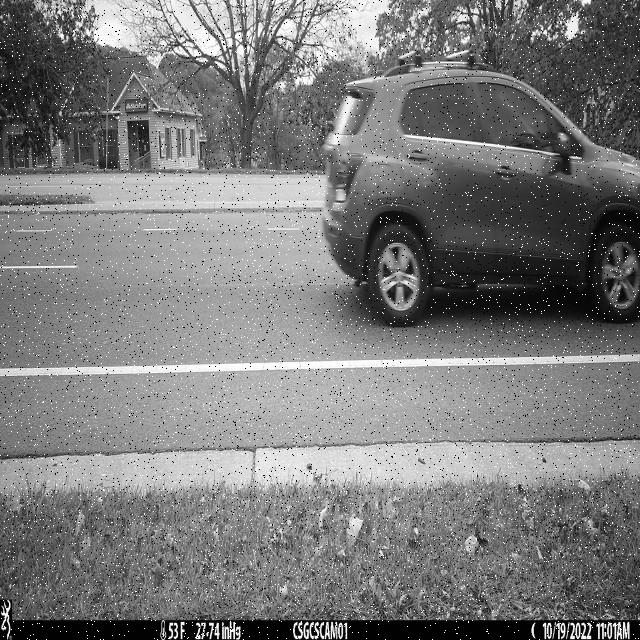SUV: (322, 50, 640, 328)
